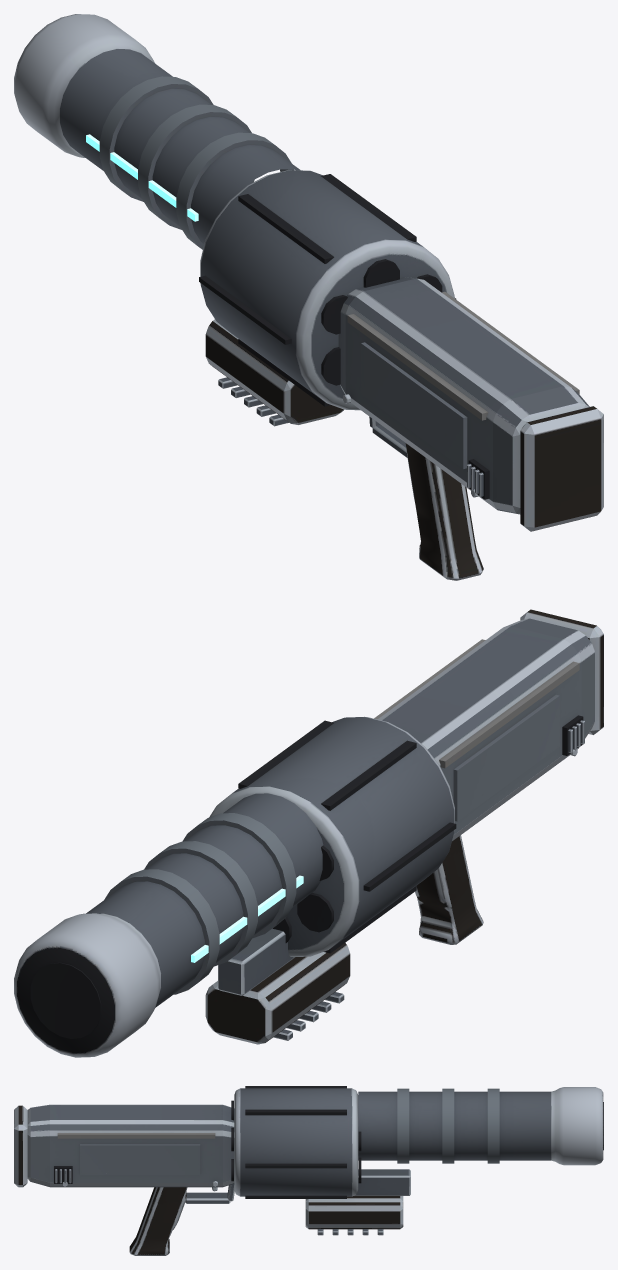
3 renders of one model, top to bottom at view 1: azimuth 30°, elevation 25°; view 2: azimuth 150°, elevation 25°; view 3: azimuth 270°, elevation 25°, orthographic. The views are drawn at different scales.
Parts seen in each view (by area): view 1: body; view 2: body; view 3: body.
Part boxes in pixels (x1,y1,x2,y2): body: (14,14,603,580); body: (14,609,603,1057); body: (14,1086,603,1255).
Size of the model in its own units: 0.154 by 0.2346 by 0.785.
Materials: 1 (1 with a texture image).
